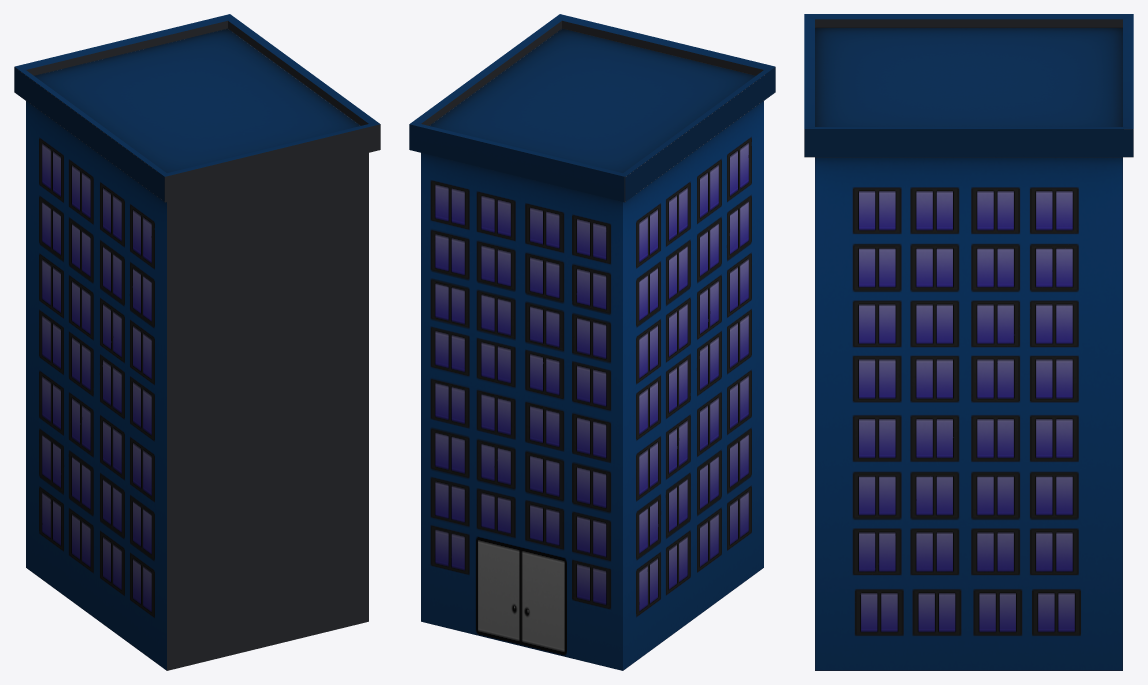
File: Building2 blue version.fbx
3 views of the same model, side by side, from view 1: azimuth 30°, elevation 25°; view 2: azimuth 150°, elevation 25°; view 3: azimuth 270°, elevation 25° (orthographic). The views are drawn at different scales.
Visible parts, largest first — view 1: Building_12; view 2: Building_12; view 3: Building_12.
Boxes of the visible parts, x1,y1,x2,y2 form: Building_12: [14, 14, 380, 670]; Building_12: [409, 14, 775, 670]; Building_12: [804, 14, 1133, 670].
Bounding box in the file's own units: 738 × 1632 × 892.
1 material, 1 textured.
